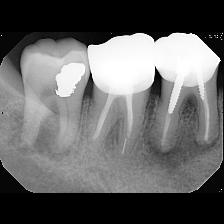apical_lesion: (140, 32, 223, 179), (9, 38, 92, 177)
